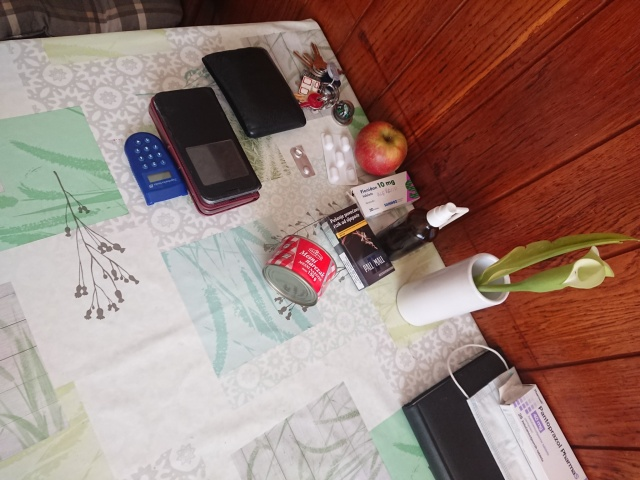Podravka Luncheon Meat 150g: (260, 233, 339, 309)
